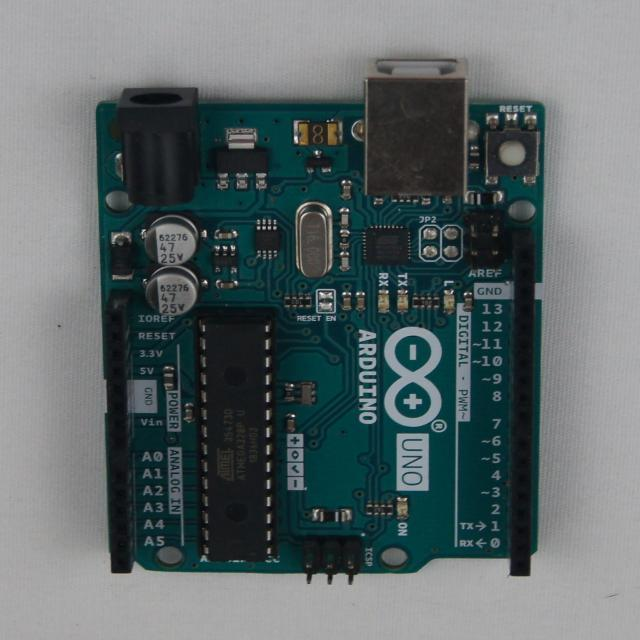Arduino Uno -Green-: (98, 60, 545, 584)
